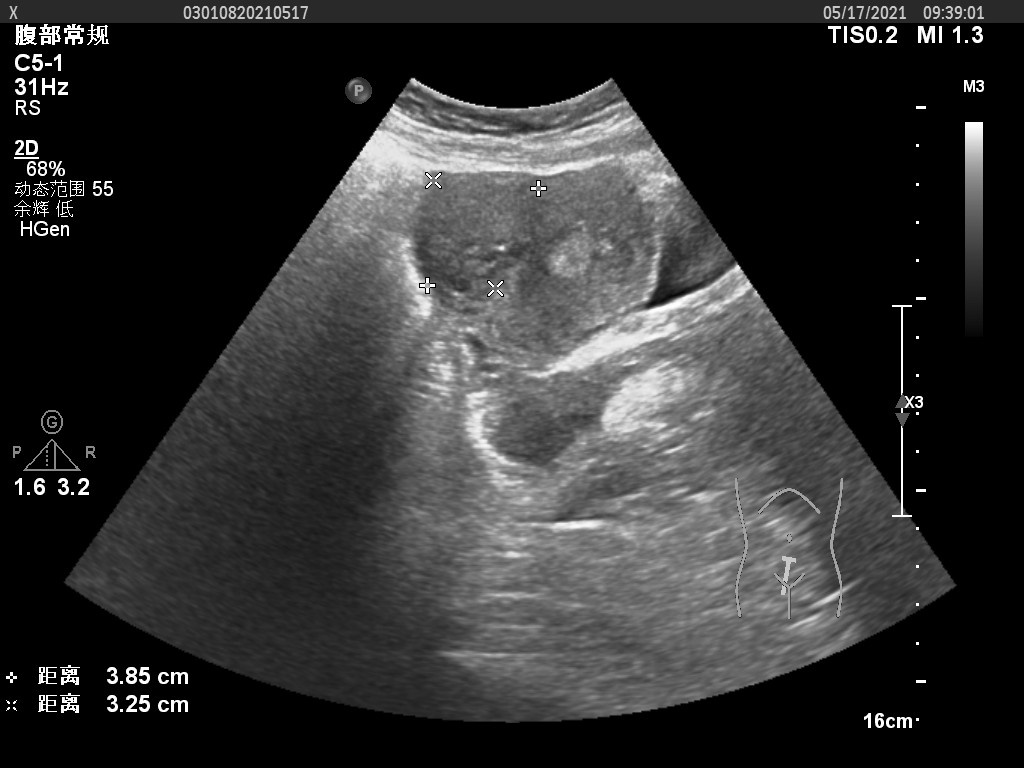肌瘤: (427, 180, 522, 286)
